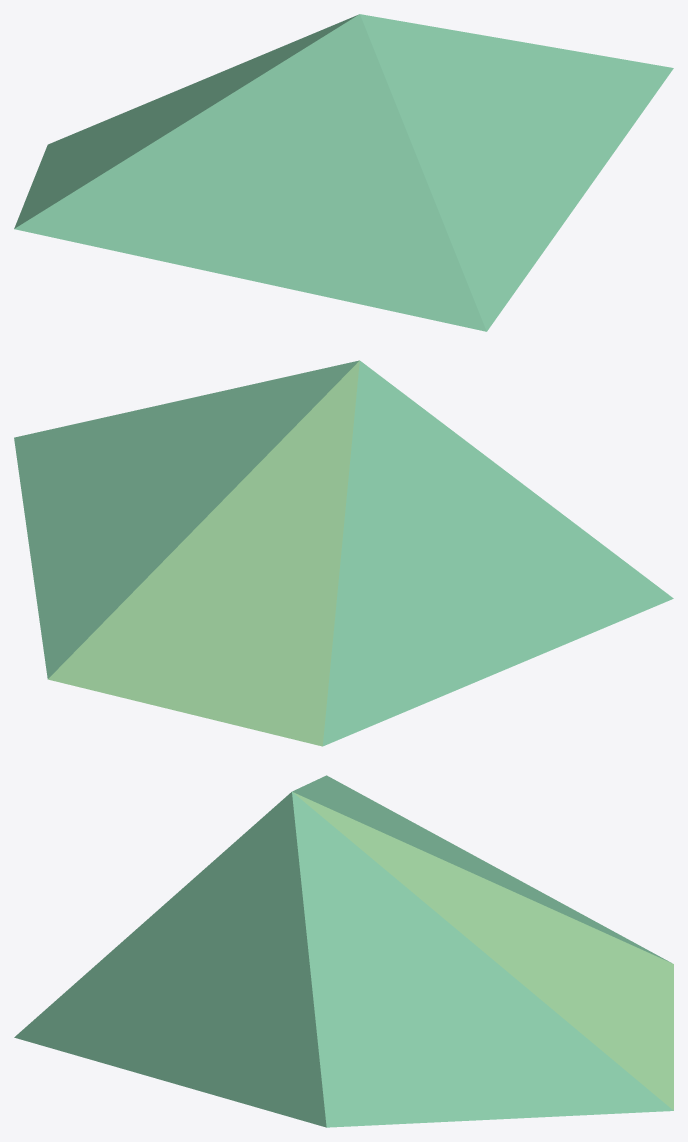
Rendered from zarch-player-ship.glb.
The picture shows the model from 3 angles, top to bottom: view 1: azimuth 30°, elevation 25°; view 2: azimuth 150°, elevation 25°; view 3: azimuth 270°, elevation 25°; orthographic projection. The views are drawn at different scales.
Size of the model in its own units: 22.74 by 7.4 by 18.
